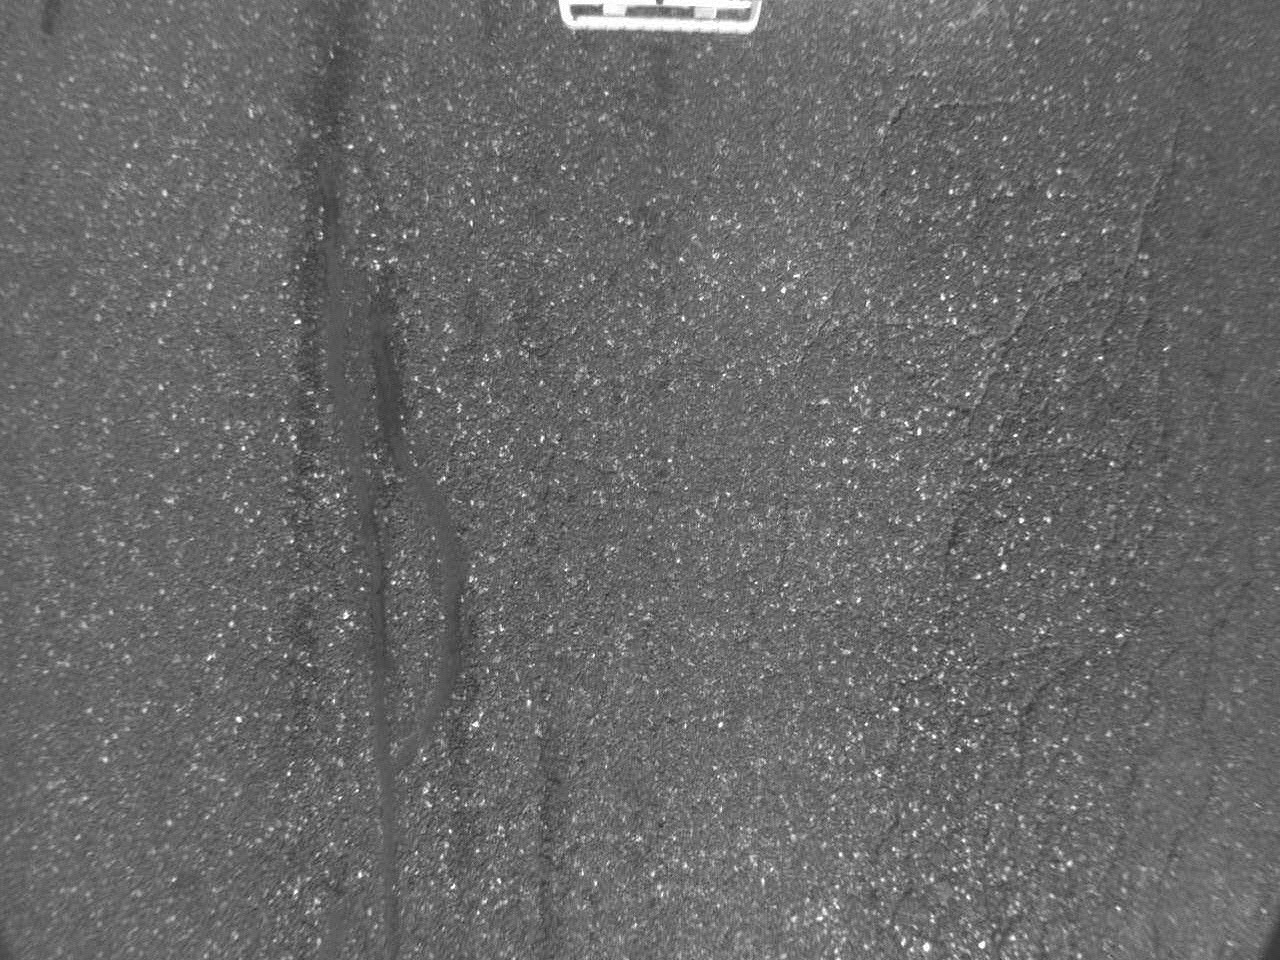sealed: (306, 325, 490, 950)
